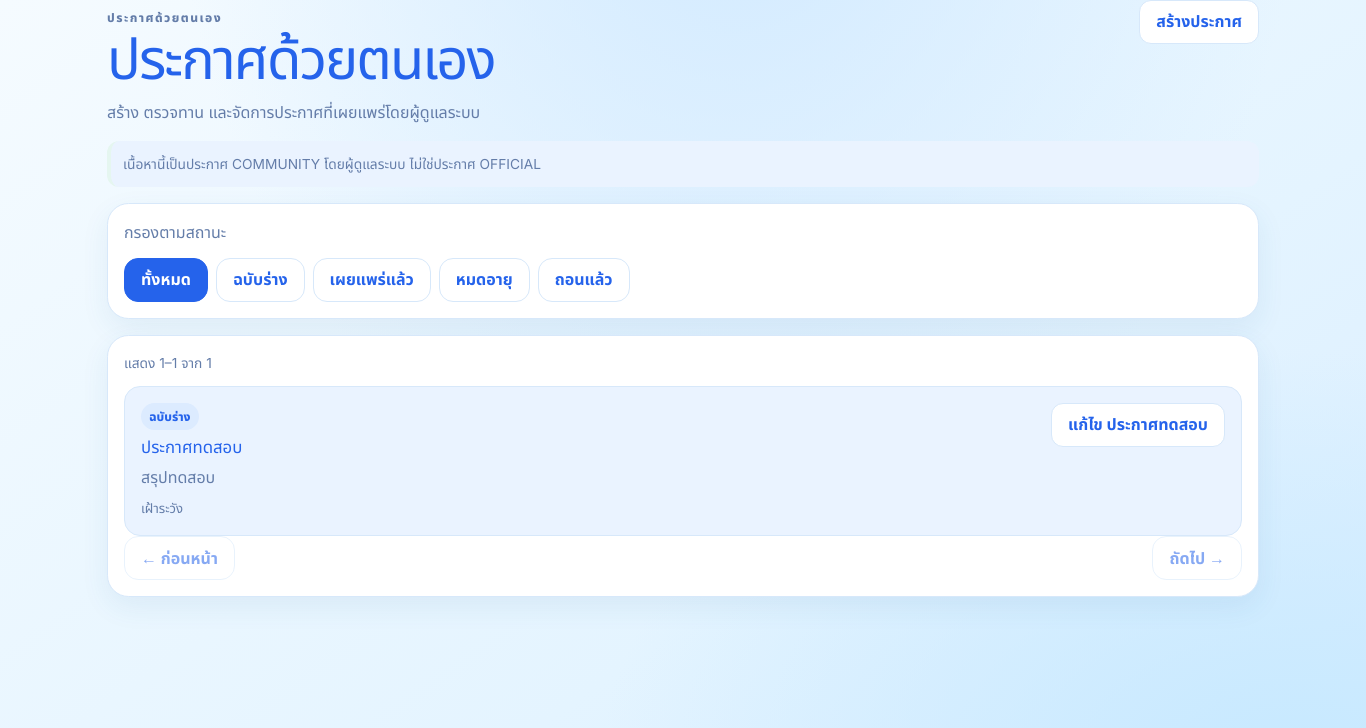
Test case: AdminAnnouncementsPage › reloads detail and immutable history when opening the same announcement again
The width and height of the screenshot is (1366, 728).
expect the heading "ประกาศทดสอบ" is shown: met, box [141,437,242,457]
Click the button "แก้ไข ประกาศทดสอบ".
click(1138, 425)  # box [1051,403,1225,447]
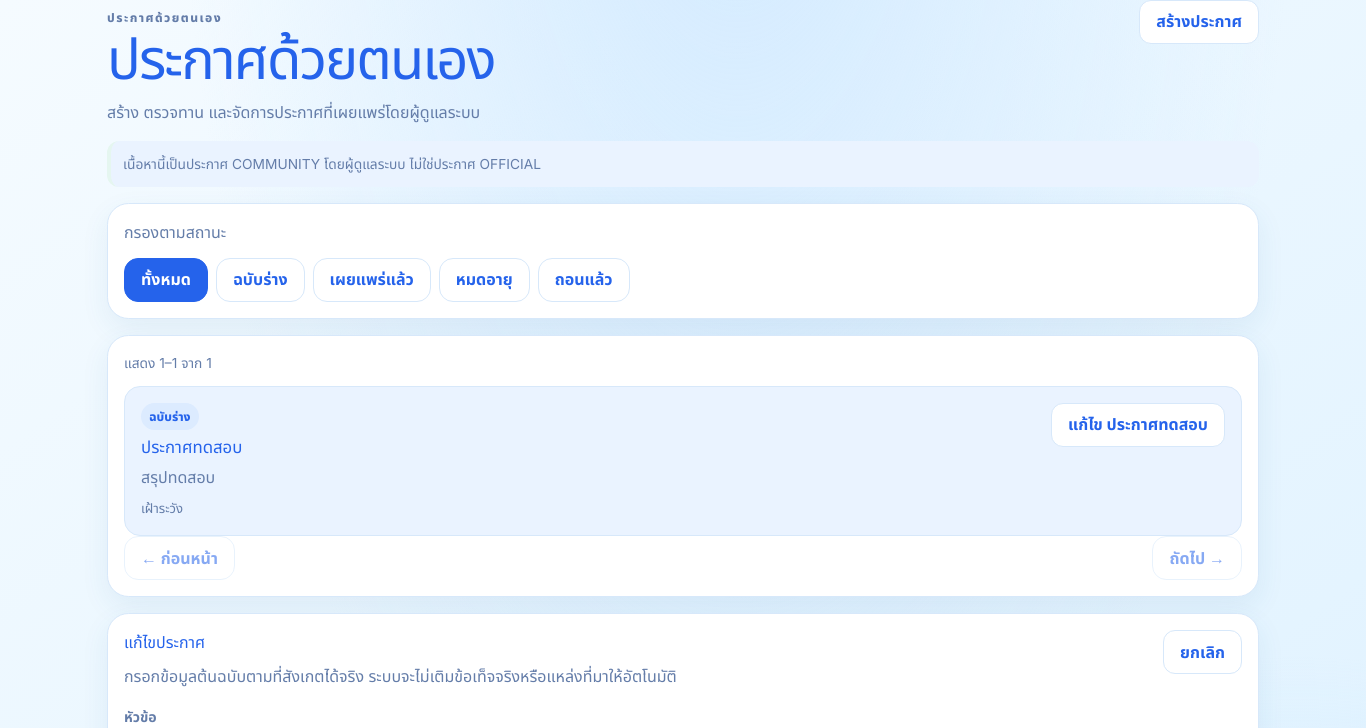
Click the button "แก้ไข ประกาศทดสอบ".
click(1138, 425)  # box [1051,403,1225,447]
(page scrolled)
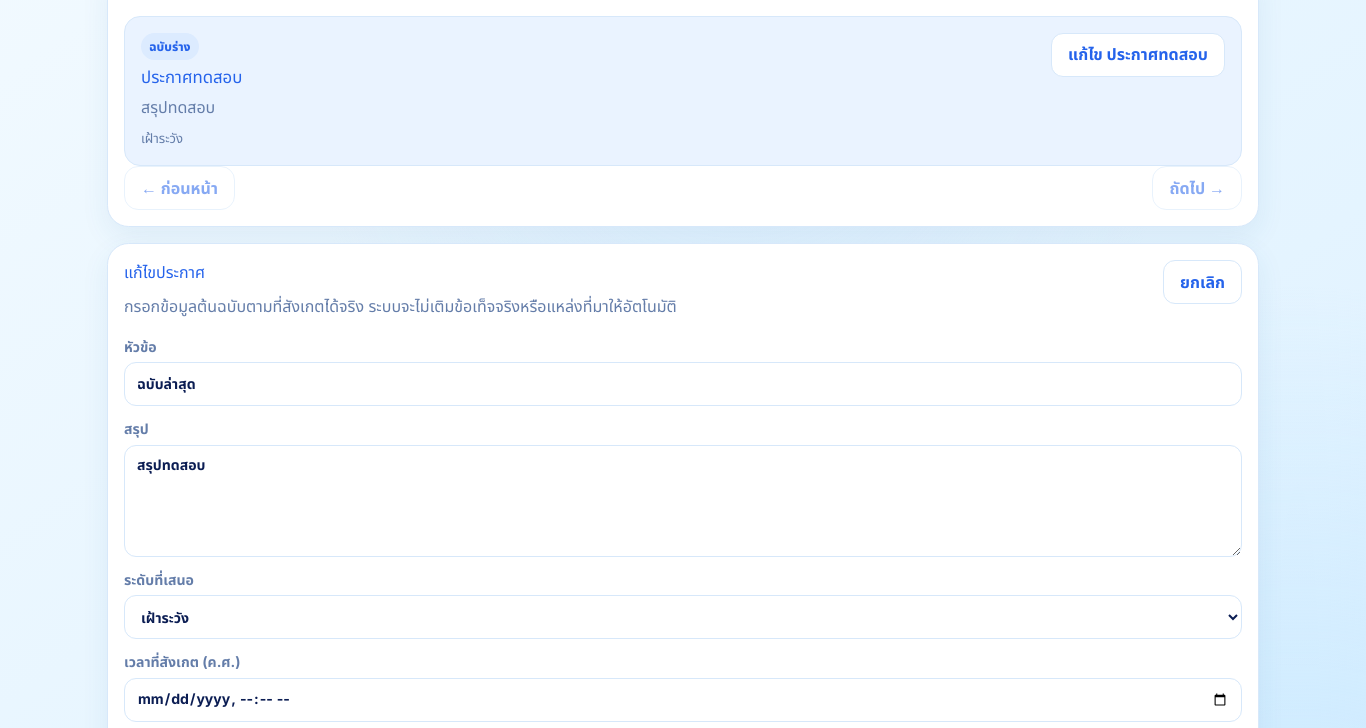
expect the field showing "ฉบับล่าสุด" is shown: met, box [124,362,1242,406]
